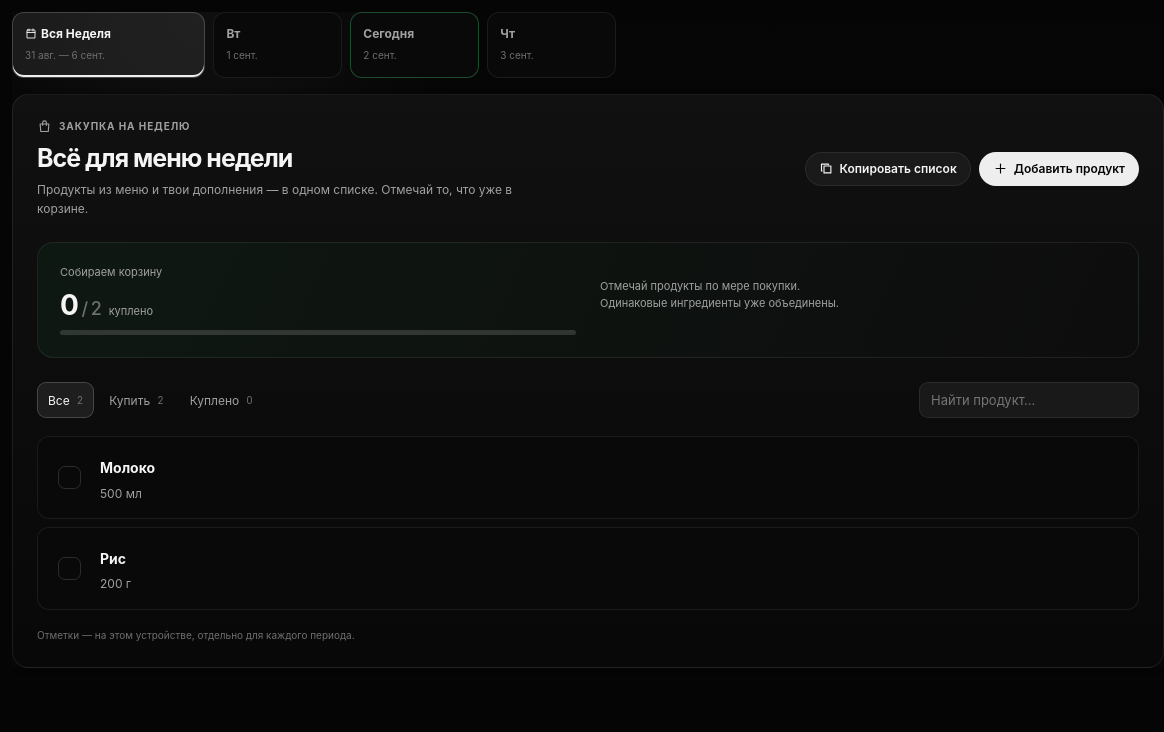
Test: meal shopping periods › does not add purchases to past days
This screenshot has width=1164, height=732.
Click the button "вт 1 сент." at (278, 45), box [213,12,342,78]
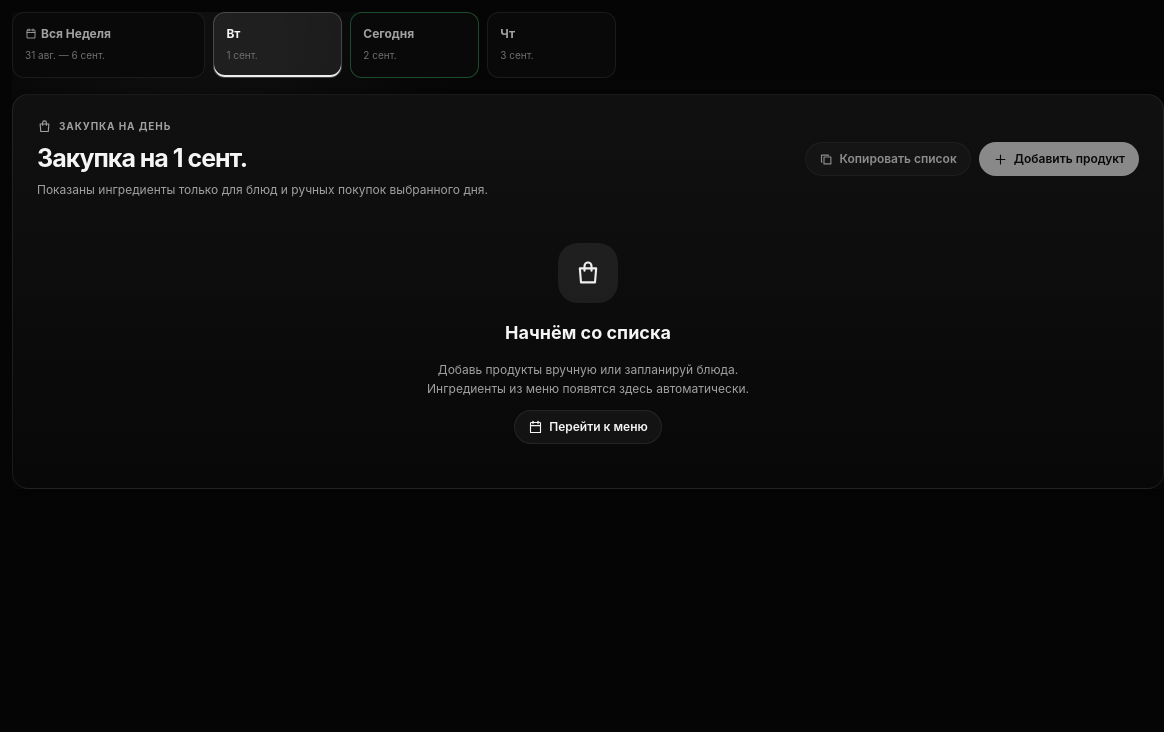
Result: the button with class "ui-button--primary" is disabled at [979,142,1139,176]
